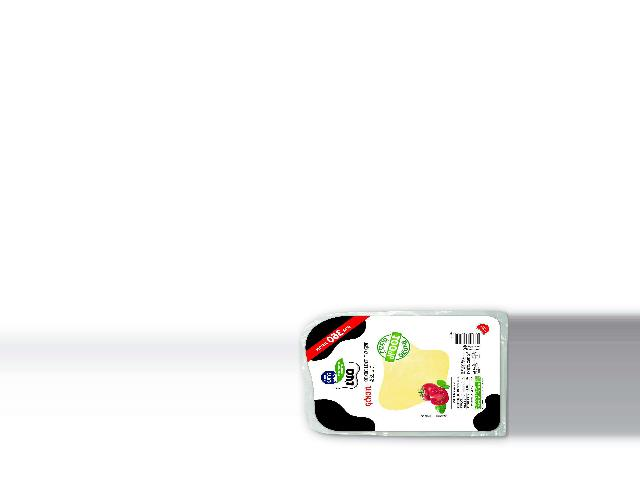cheese: (298, 310, 507, 436)
